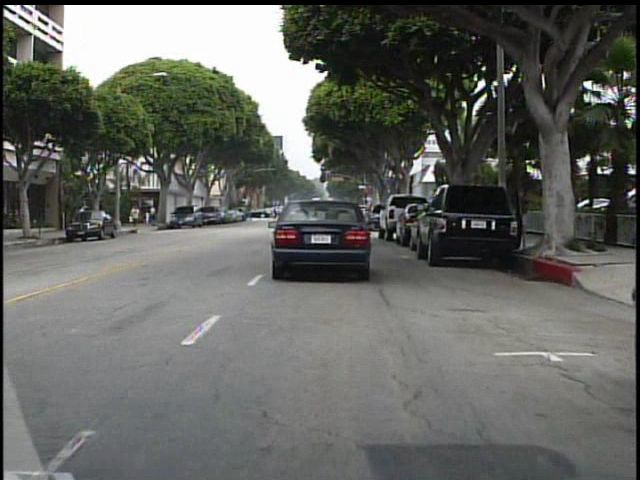person: (130, 202, 145, 231), (151, 202, 162, 227)
